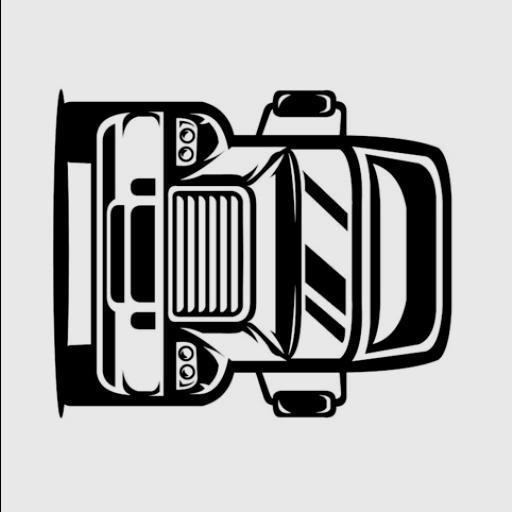truck: (50, 84, 452, 424)
